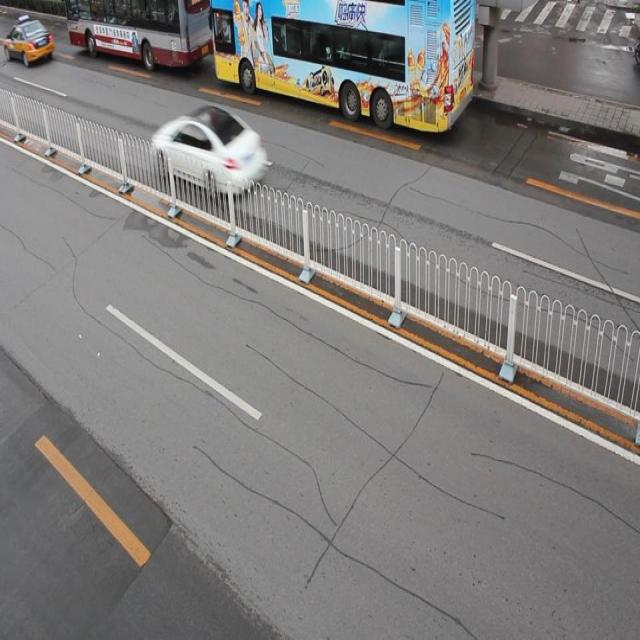car: (150, 102, 268, 201), (0, 18, 54, 65)
van: (209, 1, 474, 127), (63, 1, 210, 64)
